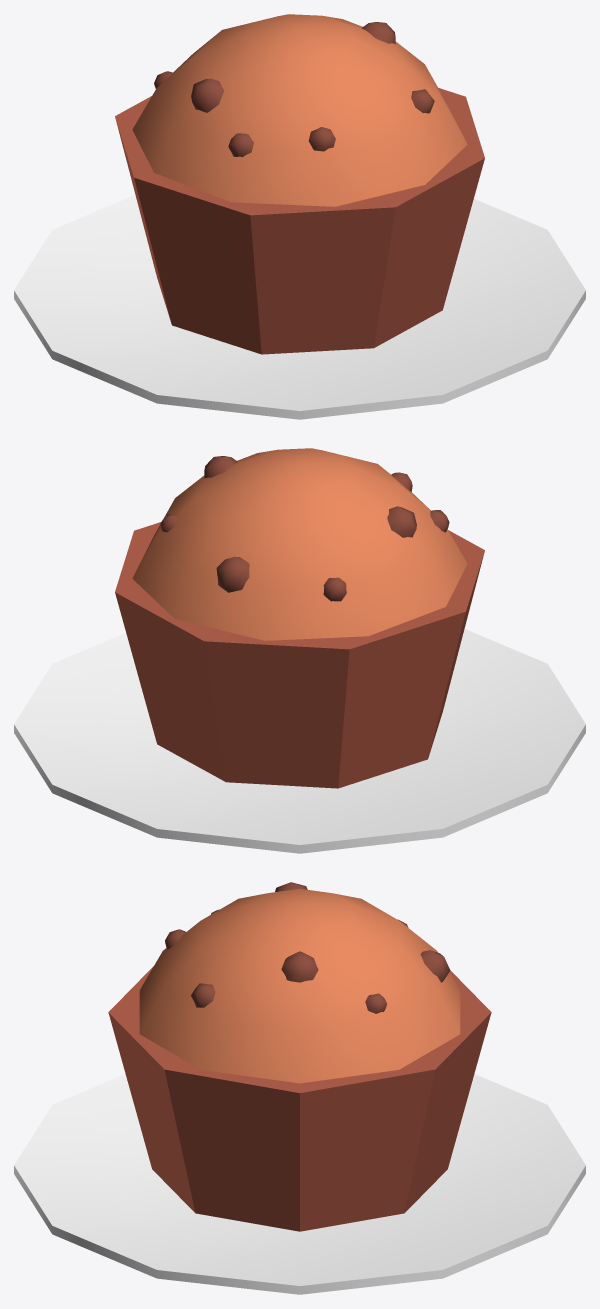
File: CupcakeSocola.fbx
The picture shows the model from 3 angles, top to bottom: view 1: azimuth 30°, elevation 25°; view 2: azimuth 150°, elevation 25°; view 3: azimuth 270°, elevation 25°; orthographic projection.
Parts seen in each view (by area): view 1: Cupcake_lv1; view 2: Cupcake_lv1; view 3: Cupcake_lv1.
Boxes of the visible parts, left/top/right/bottom form: Cupcake_lv1: left=14, top=14, right=585, bottom=419; Cupcake_lv1: left=14, top=448, right=585, bottom=853; Cupcake_lv1: left=14, top=882, right=585, bottom=1294.
Size of the model in its own units: 151 by 89.71 by 151.
